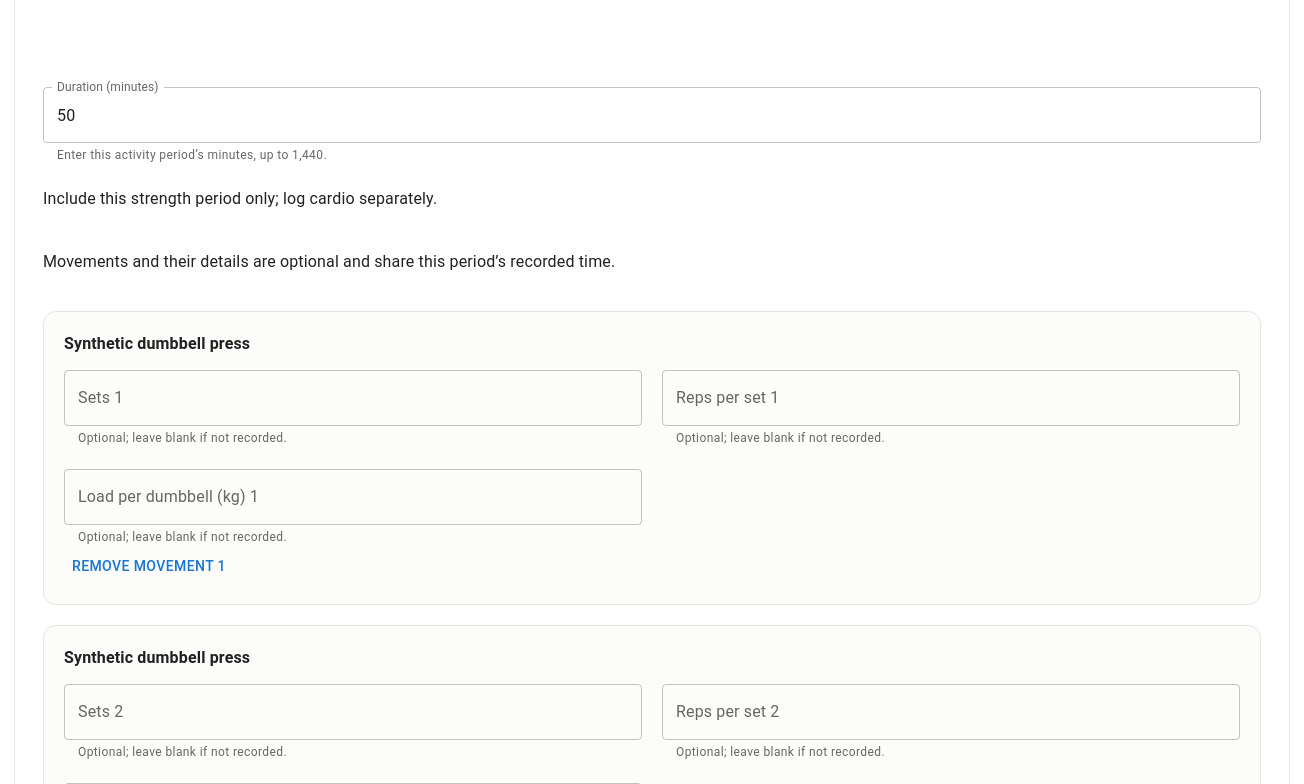
Test: accepts partial optional details and labels per-dumbbell load without doubling it; invalid supplied values block Review
(page scrolled)
Type "3" into the field labelled "Sets 1" at (353, 398), box [64,370,642,426]
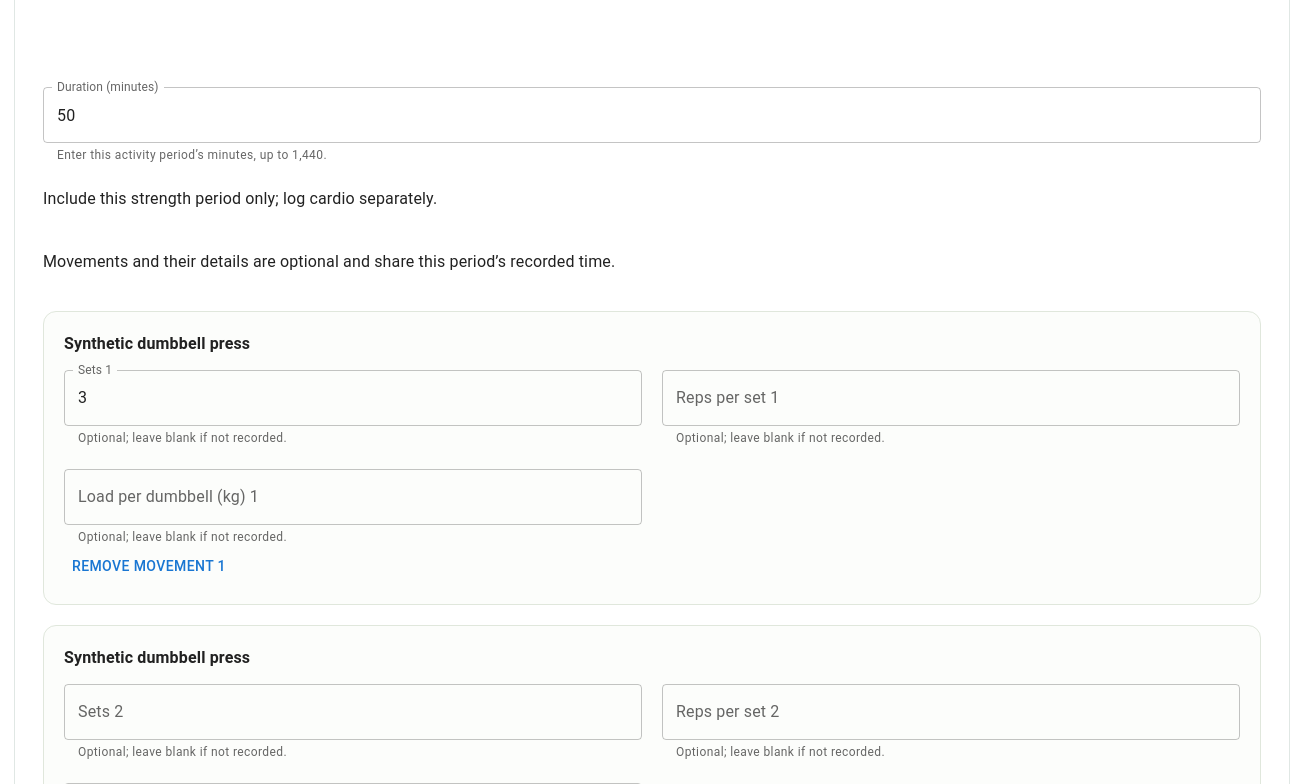
Type "20" into the field labelled "Load per dumbbell (kg) 1" at (353, 497), box [64,469,642,525]
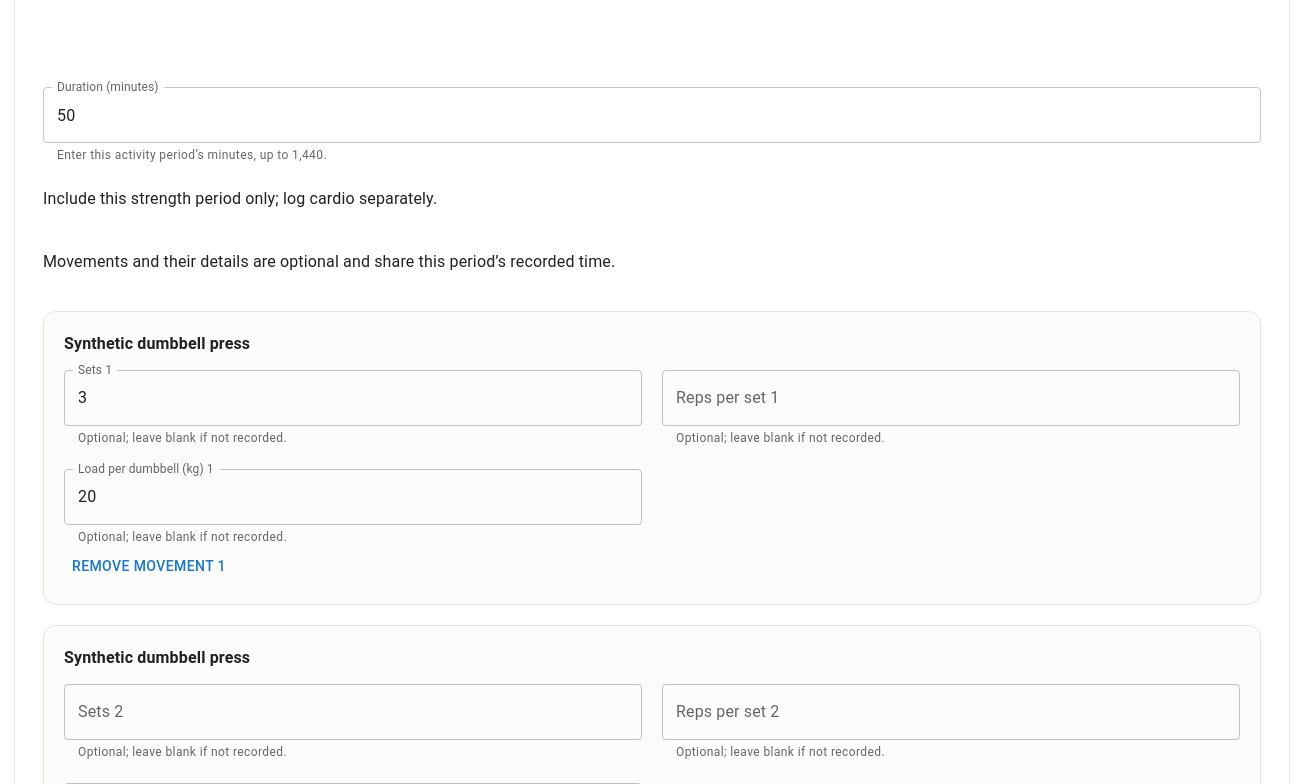
Type "1.5" into the field labelled "Reps per set 1" at (951, 398), box [662,370,1240,426]
(page scrolled)
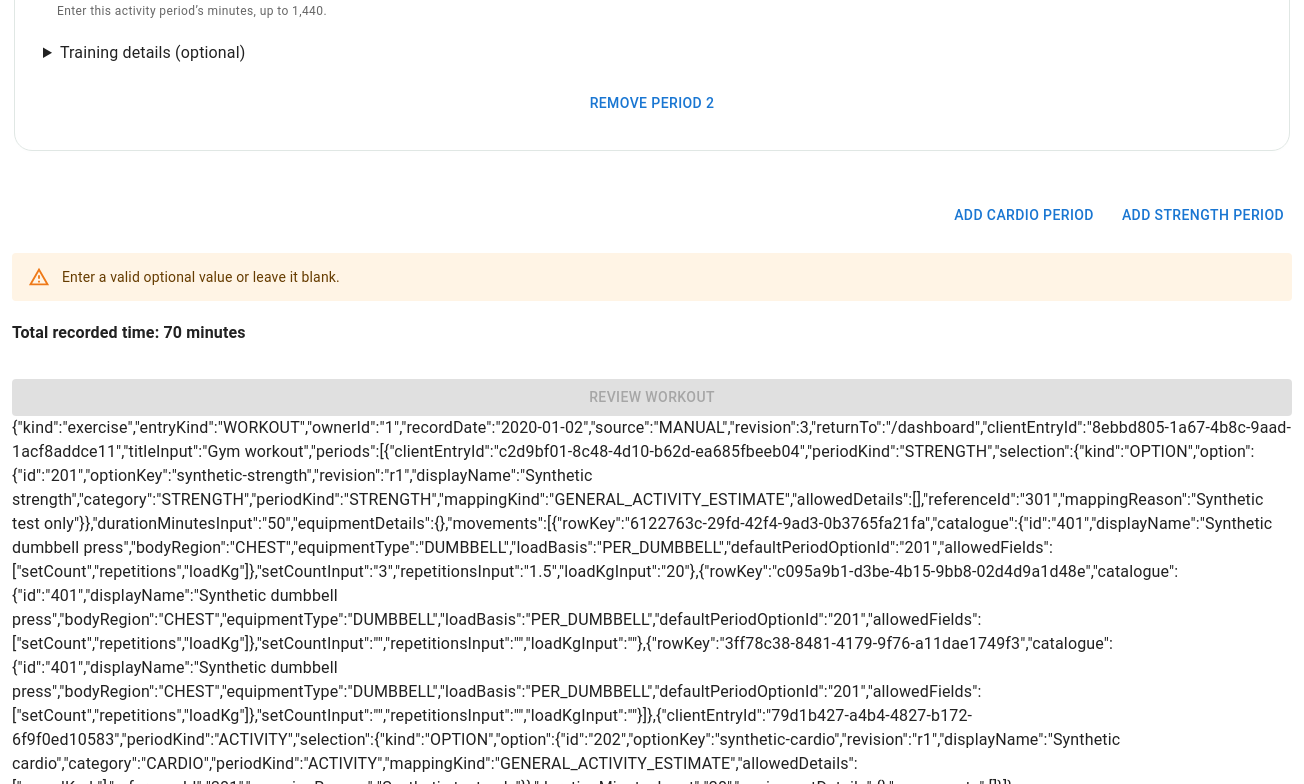
expect the button "Review workout" is disabled: met, box [12,380,1292,416]
